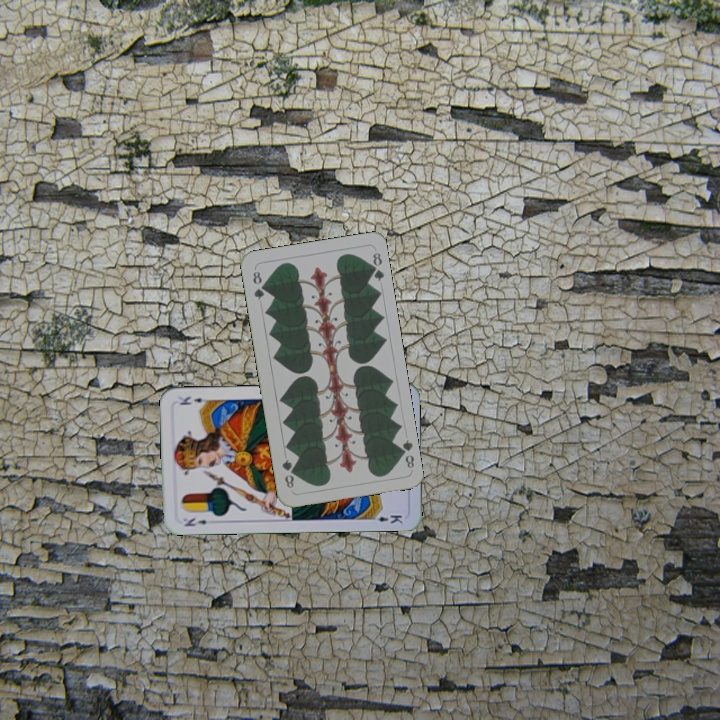EK: (181, 514, 209, 529)
G8: (394, 436, 417, 471), (249, 267, 267, 303)
